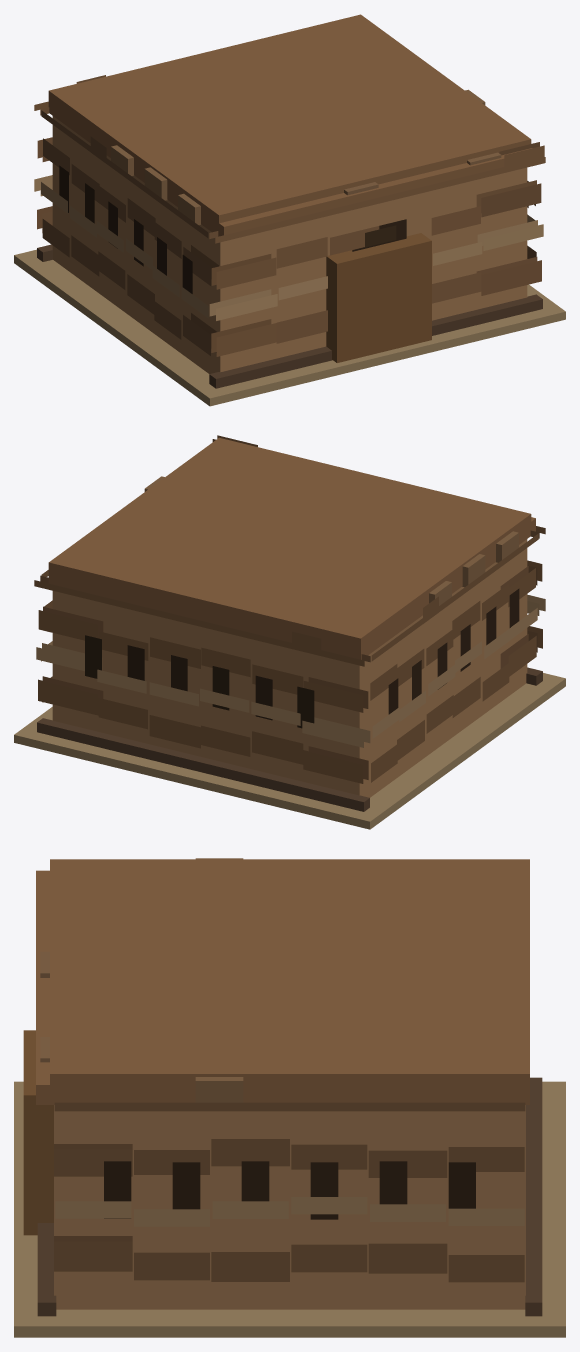
Rendered from CrystalScorpionSil.fbx.
The picture shows the model from 3 angles, top to bottom: view 1: azimuth 30°, elevation 25°; view 2: azimuth 150°, elevation 25°; view 3: azimuth 270°, elevation 25°; orthographic projection. The views are drawn at different scales.
Parts seen in each view (by area): view 1: CR_S_All; view 2: CR_S_All; view 3: CR_S_All.
Part boxes in pixels (x1,y1,x2,y2): CR_S_All: [14, 14, 565, 406]; CR_S_All: [14, 435, 565, 829]; CR_S_All: [14, 858, 565, 1337].
Bounding box in the file's own units: 42.04 × 19.9 × 40.04.
